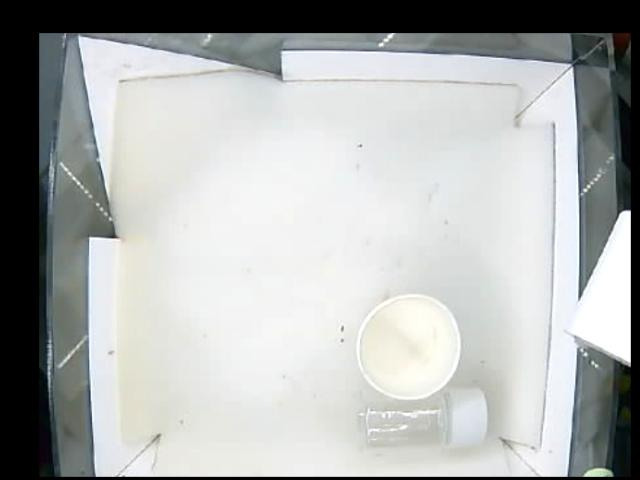Bottle: (360, 387, 490, 450)
Cup: (356, 293, 465, 399)
